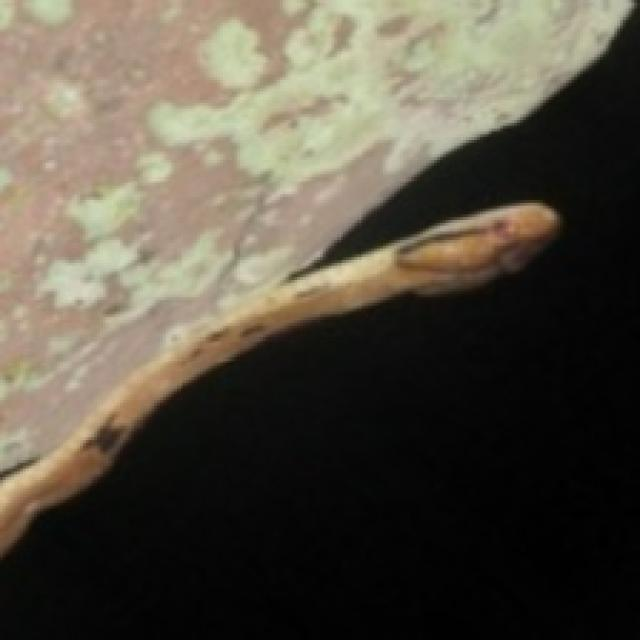dog-toothed cat snake: (0, 203, 560, 551)
